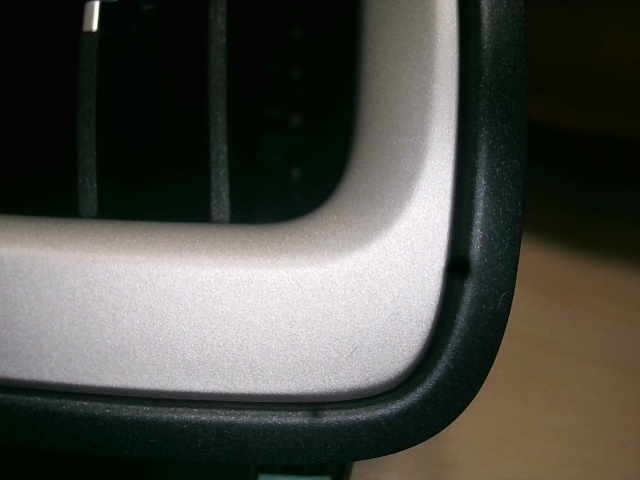NG: (340, 340, 367, 363), (493, 286, 513, 316)
